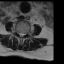CCS_stenosis: (20, 31, 22, 39)
LFS_normal: (24, 31, 26, 37)
LLS_normal: (22, 31, 24, 37)
RFS_normal: (17, 29, 18, 36)
RLS_normal: (18, 30, 20, 37)
